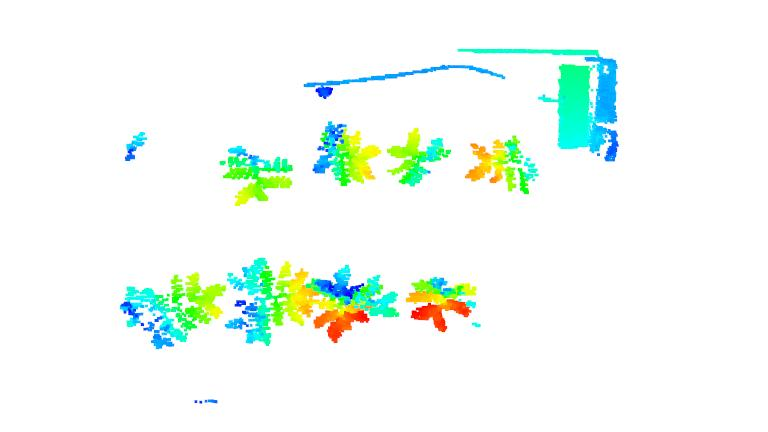chickpea: (223, 255, 316, 348), (121, 271, 225, 348), (305, 264, 402, 344), (215, 143, 297, 206), (464, 135, 540, 196), (404, 274, 480, 335), (314, 120, 380, 189), (383, 128, 456, 188)
